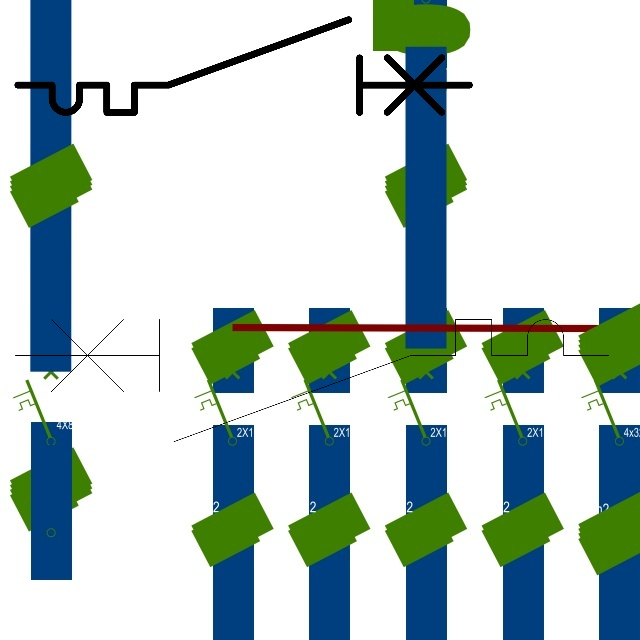interruptor_termomagnetico: (0, 304, 624, 456), (6, 8, 481, 124)
